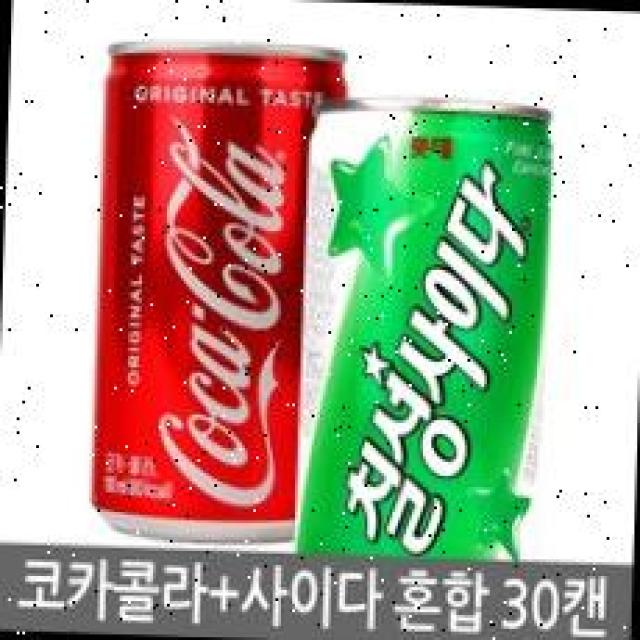coca-cola: (81, 28, 314, 542)
